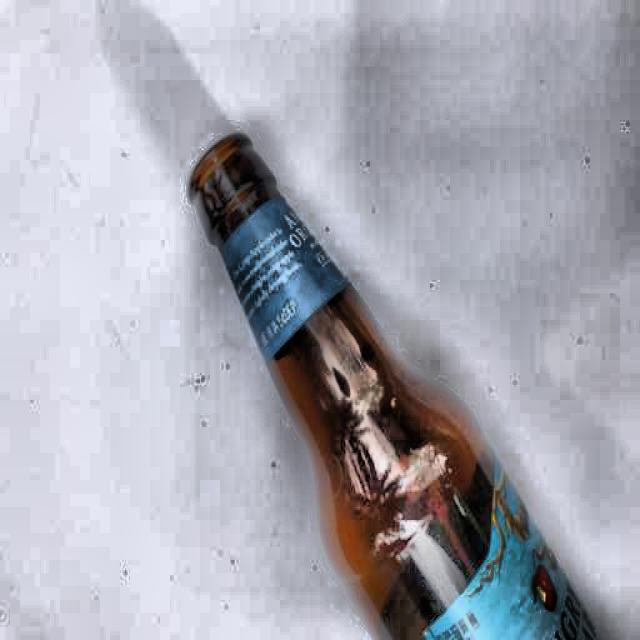glass: (181, 126, 600, 640)
